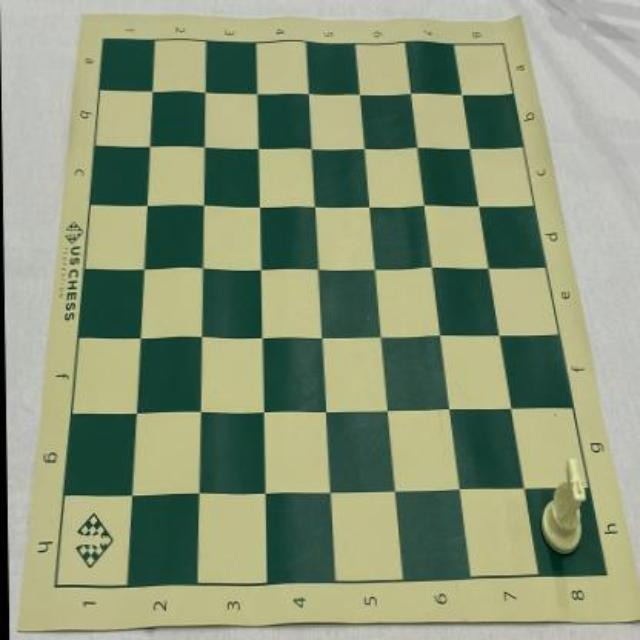white-knight: (538, 457, 585, 557)
